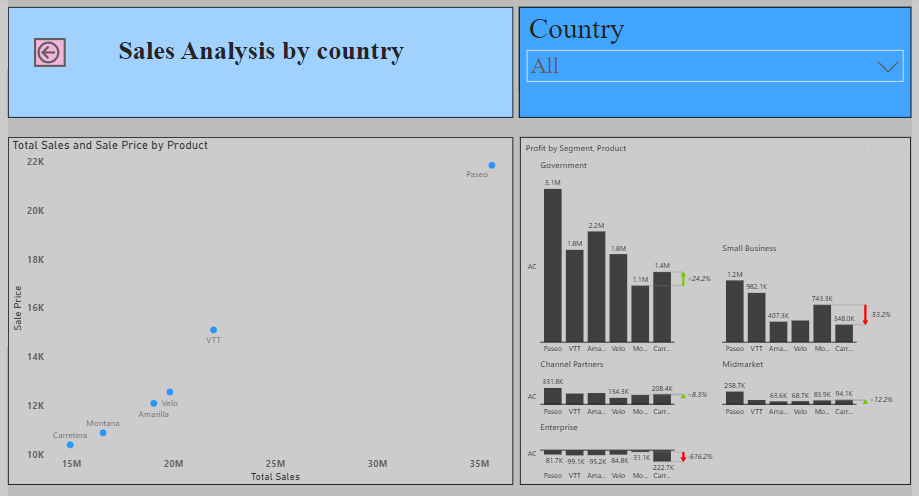

The dashboard page shown, as its layout file describes it:
{"tool":"powerbi","page":{"name":"Page 2","canvas":[1280,720],"ordinal":1},"visuals":[{"type":"textbox","box":[0,14.2,715.7,157.3],"z":0},{"type":"slicer","fields":{"Values":["financials.Country"]},"box":[724.3,14.2,555.6,157.3],"z":1000},{"type":"waterfall6C9ED82ABD1F44C4A0D590CE01EB5EE7","fields":{"Values":["Sum(financials.Profit)"],"Category":["financials.Product"],"Group":["financials.Segment"]},"box":[725.7,198.4,554.2,493.2],"z":2000},{"type":"scatterChart","fields":{"Category":["financials.Product"],"X":["Sum(financials.total sales)"],"Y":["Sum(financials.Sale Price)"]},"box":[0,198.4,715.7,493.2],"z":3000},{"type":"actionButton","box":[36.9,58.1,45.4,41.1],"z":4000}]}

Visuals, with their boxes in screenshot pixels (x1, y1, x2, y2):
textbox: bbox=(7, 5, 511, 116)
slicer - financials.Country: bbox=(517, 5, 908, 116)
waterfall6C9ED82ABD1F44C4A0D590CE01EB5EE7 - Sum(financials.Profit) x financials.Product: bbox=(518, 135, 908, 482)
scatterChart - financials.Product x Sum(financials.total sales): bbox=(7, 135, 511, 482)
actionButton: bbox=(33, 36, 65, 65)
